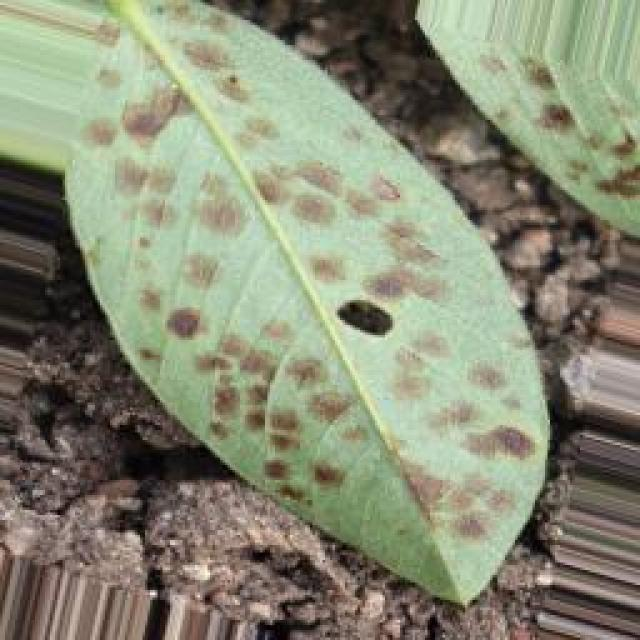Whitefly: (80, 0, 512, 585)
